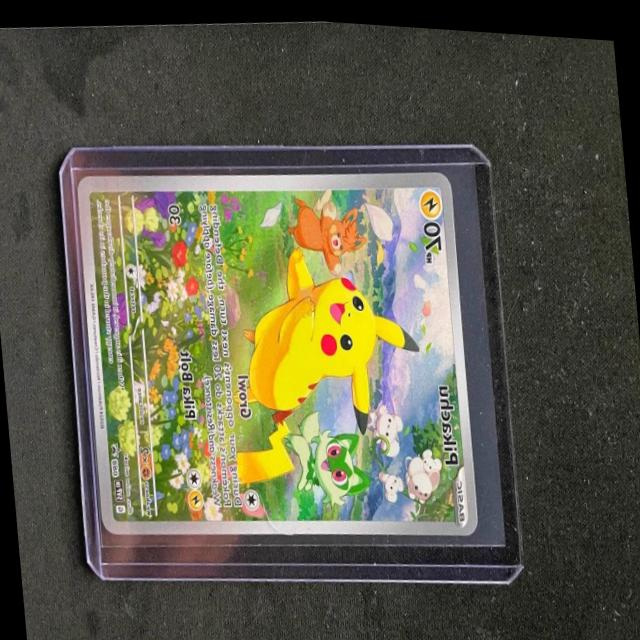card: (77, 164, 478, 531)
